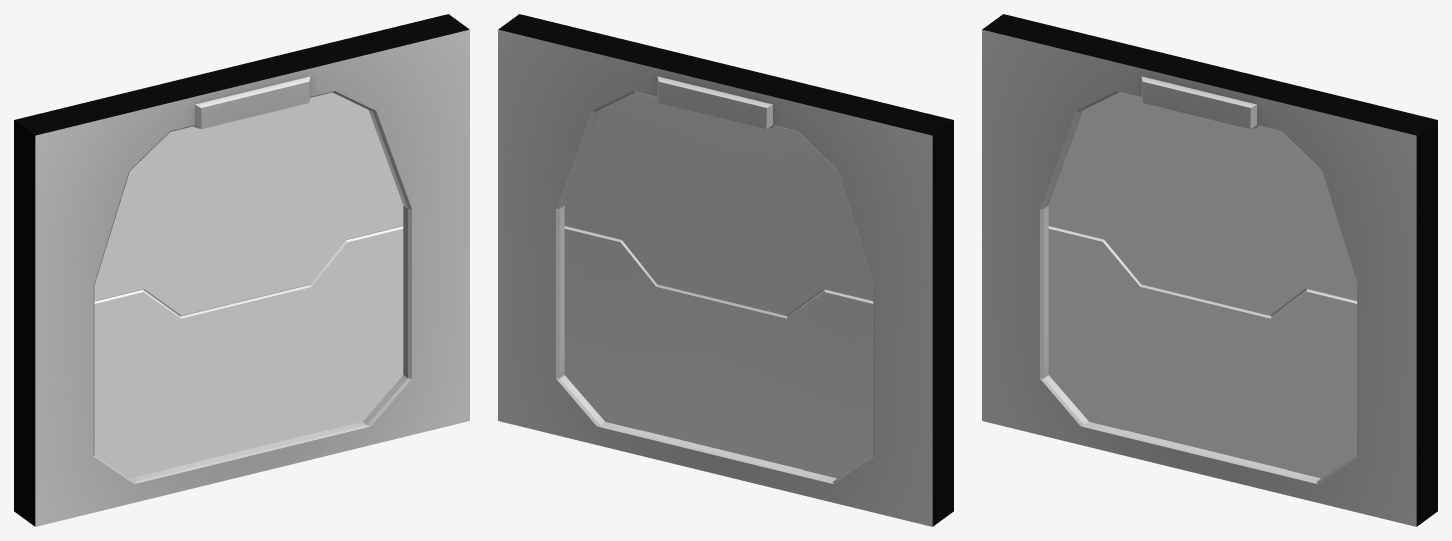
File: mod_Door.glb
3 renders of one model, left to right at view 1: azimuth 30°, elevation 25°; view 2: azimuth 150°, elevation 25°; view 3: azimuth 330°, elevation 25°, orthographic.
Parts seen in each view (by area): view 1: Cube.066, Cube.065, Cube.067; view 2: Cube.066, Cube.065, Cube.067; view 3: Cube.066, Cube.065, Cube.067.
Part boxes in pixels (x1,y1,x2,y2): Cube.066: (14, 14, 469, 526); Cube.065: (94, 226, 403, 478); Cube.067: (82, 33, 403, 316); Cube.066: (498, 14, 953, 526); Cube.065: (564, 226, 873, 478); Cube.067: (564, 33, 884, 316); Cube.066: (982, 14, 1437, 526); Cube.065: (1048, 226, 1357, 478); Cube.067: (1048, 33, 1371, 316).
Bounding box in the file's own units: 3.36 × 2.89 × 0.3555.
1 material, 1 textured.
